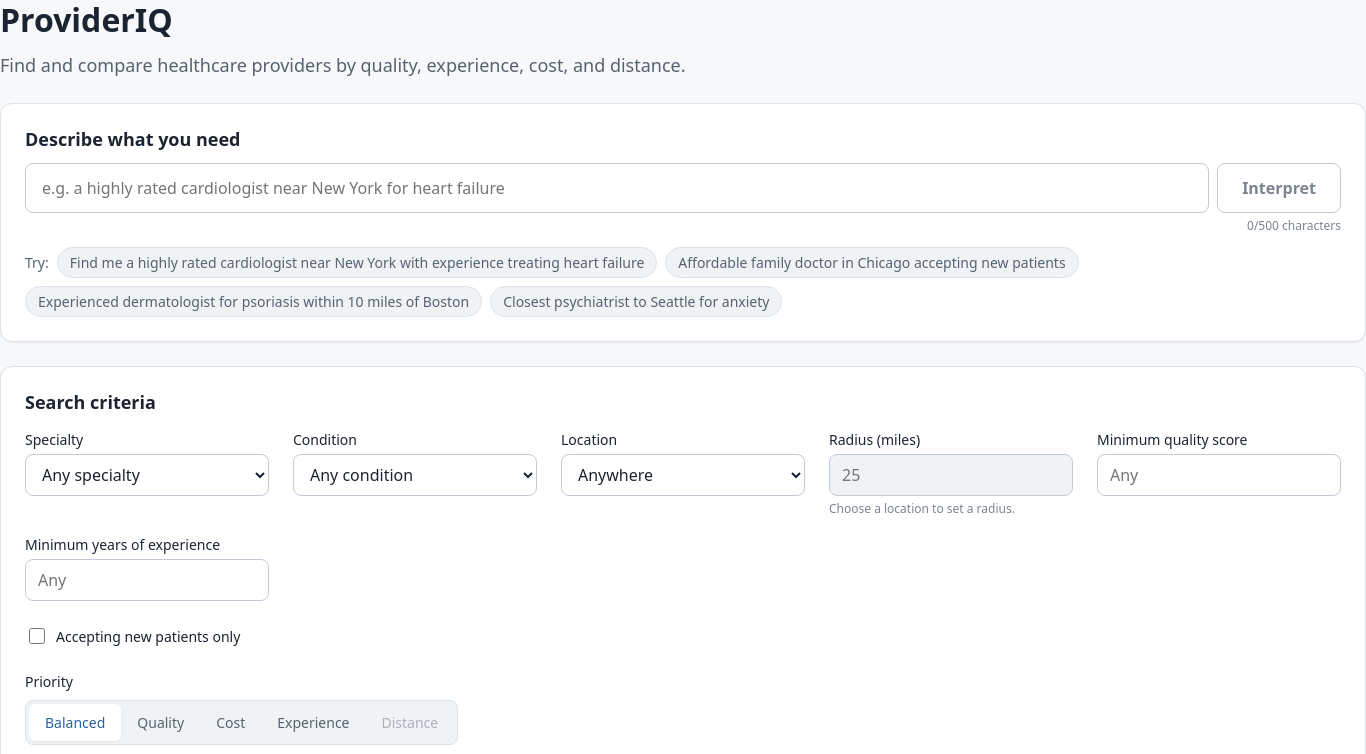
SearchPage › criteria editor › disables distance priority without a location, and resets it when the location is cleared
The width and height of the screenshot is (1366, 754).
Expected: the radio button labelled "Distance" is disabled, [382,713,438,732]
Select "New York, NY" in the dropdown labelled "Location": (683, 475) [561,454,805,496]
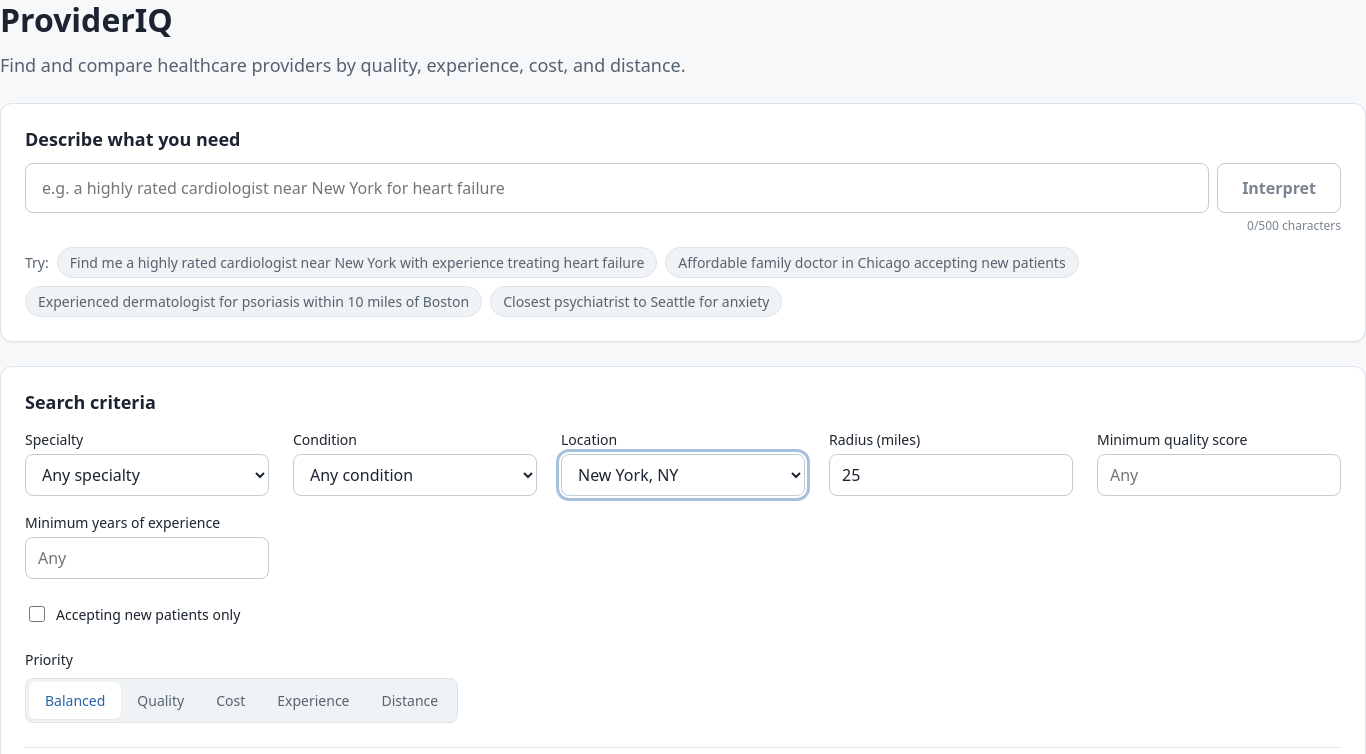
Result: the radio button labelled "Distance" is enabled
Click the radio button labelled "Distance": (410, 700) [382,691,438,710]
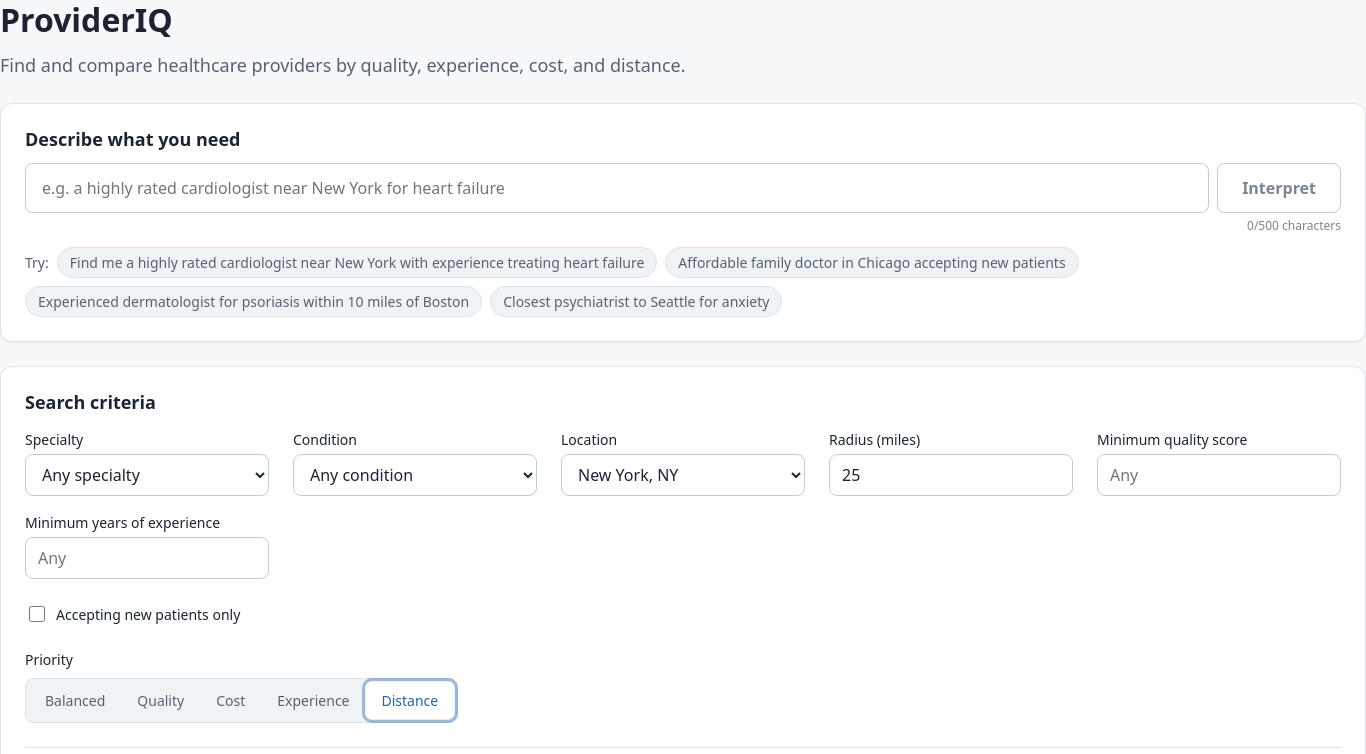
Result: the radio button labelled "Distance" is checked at [366,682,454,719]
Select "Anywhere" in the dropdown labelled "Location": (683, 475) [561,454,805,496]
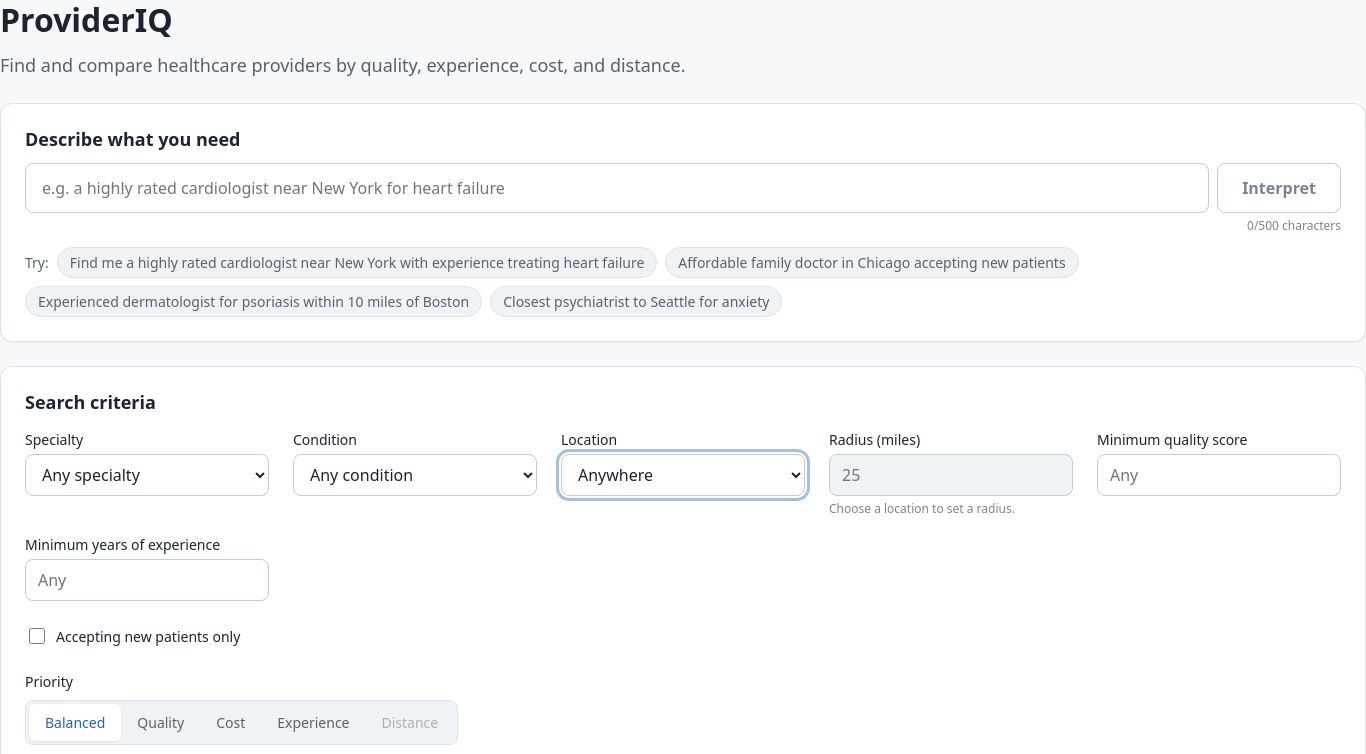
Result: the radio button labelled "Distance" is disabled at [382,713,438,732]
Result: the radio button labelled "Balanced" is checked at [29,704,121,741]
Result: the number field labelled "Radius (miles)" is disabled at [829,454,1073,496]
